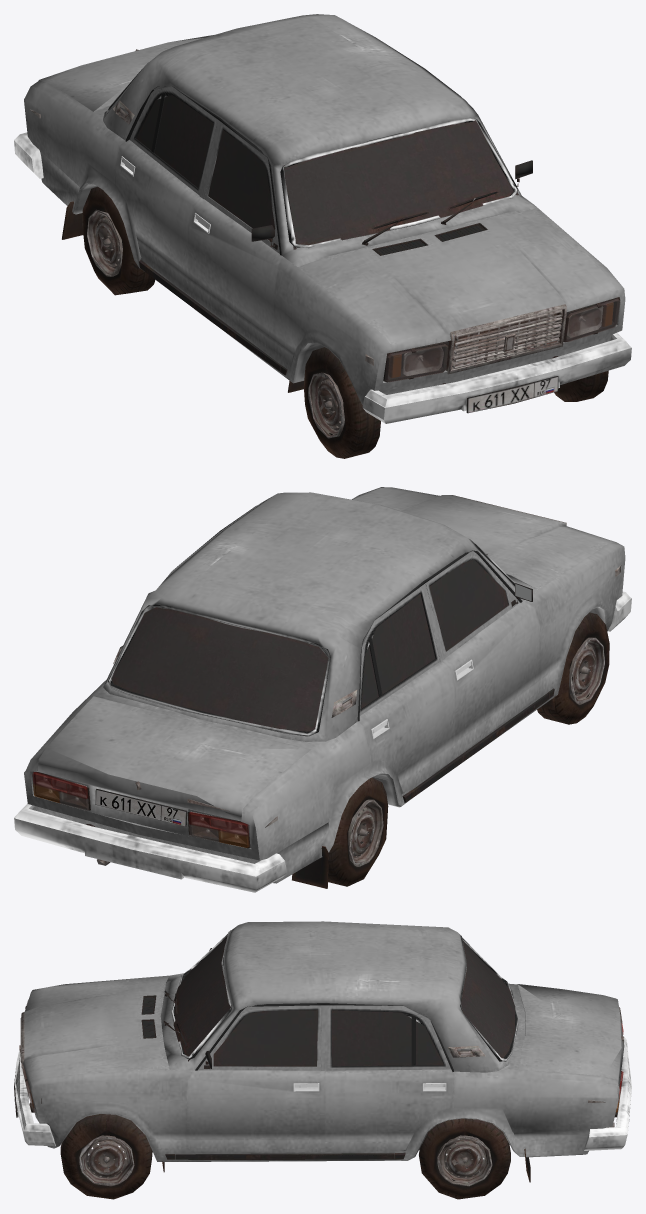
File: v_vaz.glb
3 renders of one model, top to bottom at view 1: azimuth 30°, elevation 25°; view 2: azimuth 150°, elevation 25°; view 3: azimuth 270°, elevation 25°, orthographic. The views are drawn at different scales.
Parts seen in each view (by area): view 1: Car; view 2: Car; view 3: Car.
Boxes of the visible parts, x1,y1,x2,y2 form: Car: (14,14,631,458); Car: (14,487,631,892); Car: (14,921,631,1199).
Bounding box in the file's own units: 177 × 147 × 416.
6 materials, 6 textured.
